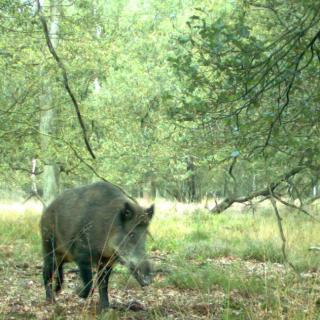Pig: (27, 172, 172, 316)
